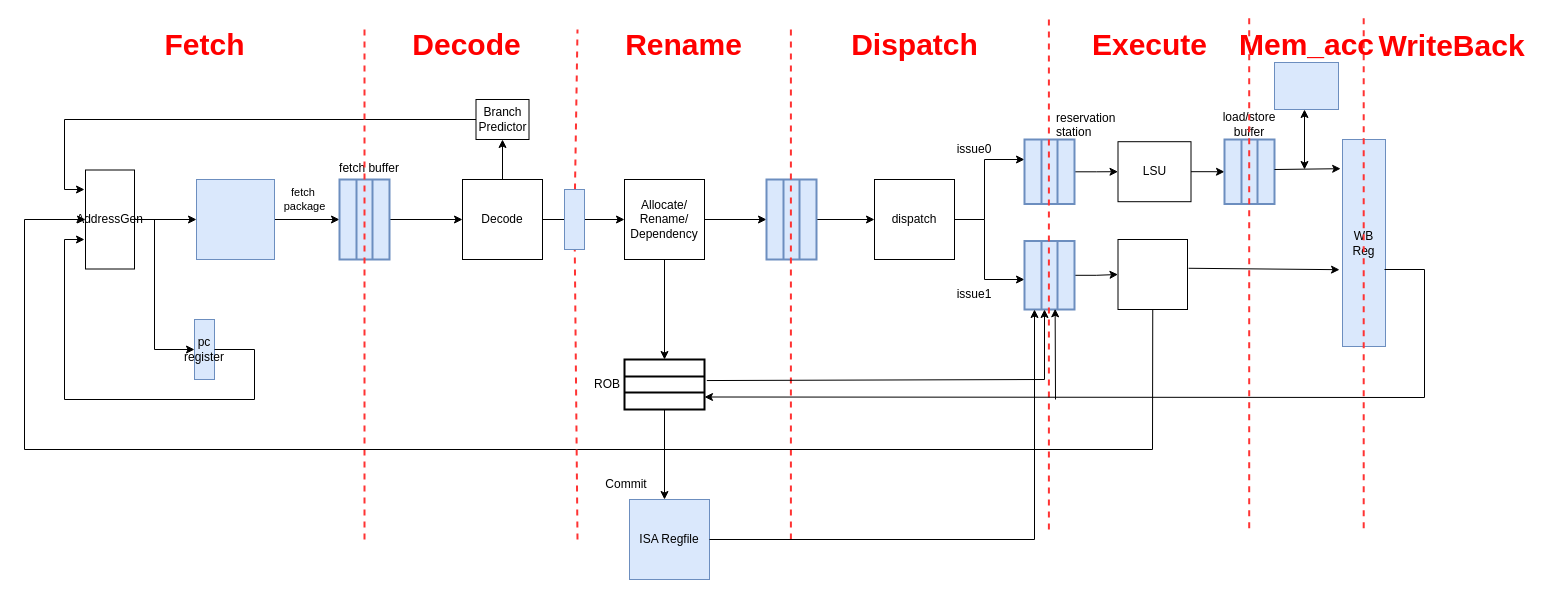
The diagram is 1546 pixels wide and 597 high, and some of its shapes have lost their labels. Each missing label, with the centre of its shape:
"BRU ALU0 ALU1" belongs at point (1152, 274).
"D$" belongs at point (1306, 86).
"I$" belongs at point (235, 219).
"reg" belongs at point (574, 219).
